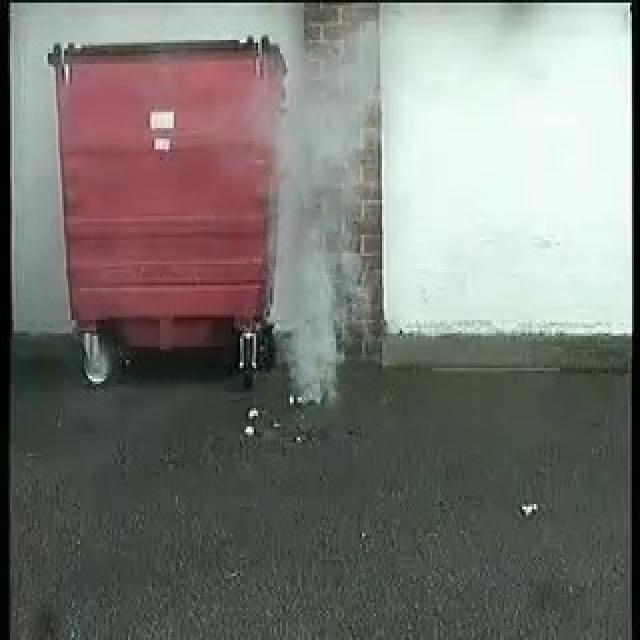smoke: (253, 16, 385, 402)
